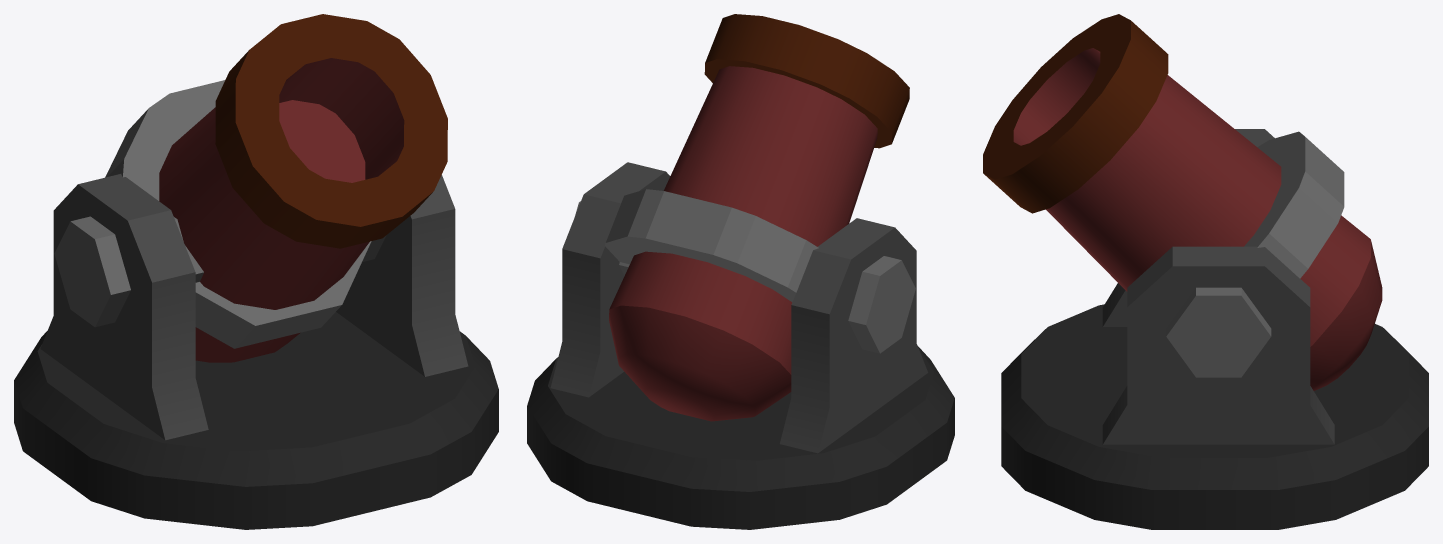
The model's file is mort.fbx.
3 renders of one model, left to right at view 1: azimuth 30°, elevation 25°; view 2: azimuth 150°, elevation 25°; view 3: azimuth 270°, elevation 25°, orthographic. The views are drawn at different scales.
Visible parts, largest first — view 1: Turret, Base; view 2: Turret, Base; view 3: Turret, Base.
Boxes of the visible parts, x1,y1,x2,y2 form: Turret: [40, 14, 468, 440]; Base: [14, 312, 498, 529]; Turret: [550, 14, 927, 453]; Base: [527, 346, 954, 529]; Turret: [983, 14, 1382, 444]; Base: [1001, 304, 1428, 529].
Size of the model in its own units: 8091 by 8559 by 8439.
